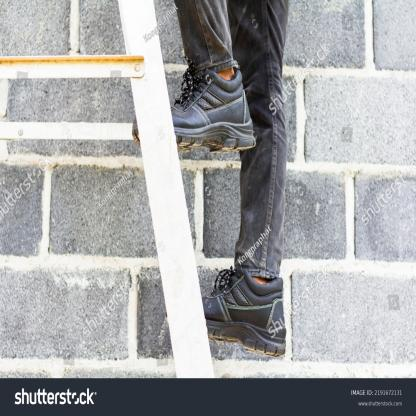bota: (203, 264, 289, 361), (170, 63, 258, 152)
